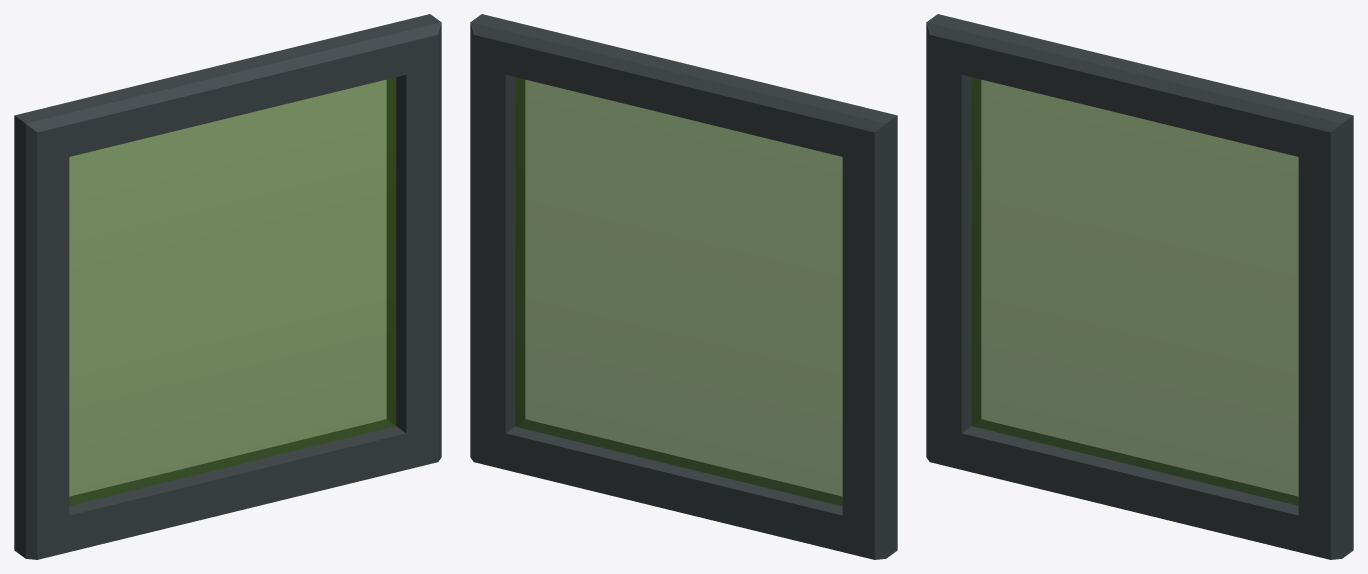
Rendered from Wall Glass Green.fbx.
3 views of the same model, side by side, from view 1: azimuth 30°, elevation 25°; view 2: azimuth 150°, elevation 25°; view 3: azimuth 330°, elevation 25° (orthographic).
Parts seen in each view (by area): view 1: Wall Glass Green; view 2: Wall Glass Green; view 3: Wall Glass Green.
Boxes of the visible parts, x1=… form: Wall Glass Green: x1=14, y1=14, x2=441, y2=559; Wall Glass Green: x1=470, y1=14, x2=897, y2=559; Wall Glass Green: x1=926, y1=14, x2=1353, y2=559.
Bounding box in the file's own units: 400 × 400 × 32.41.
